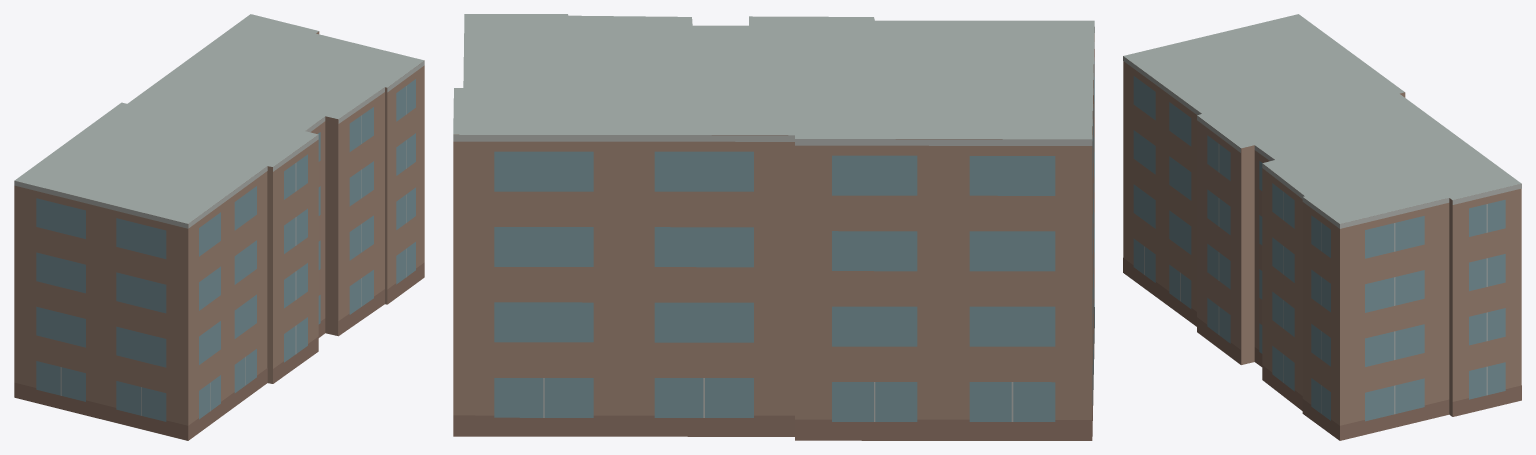
File: survey-upis-32773674.glb
3 renders of one model, left to right at view 1: azimuth 30°, elevation 25°; view 2: azimuth 150°, elevation 25°; view 3: azimuth 270°, elevation 25°, orthographic. The views are drawn at different scales.
Visible parts, largest first — view 1: survey-upis-32773674.tmp; view 2: survey-upis-32773674.tmp; view 3: survey-upis-32773674.tmp.
Part boxes in pixels (left/top/right/bottom): survey-upis-32773674.tmp: left=14, top=14, right=424, bottom=440; survey-upis-32773674.tmp: left=453, top=14, right=1094, bottom=440; survey-upis-32773674.tmp: left=1123, top=14, right=1521, bottom=440.
Size of the model in its own units: 22.66 by 10.9 by 18.17.
